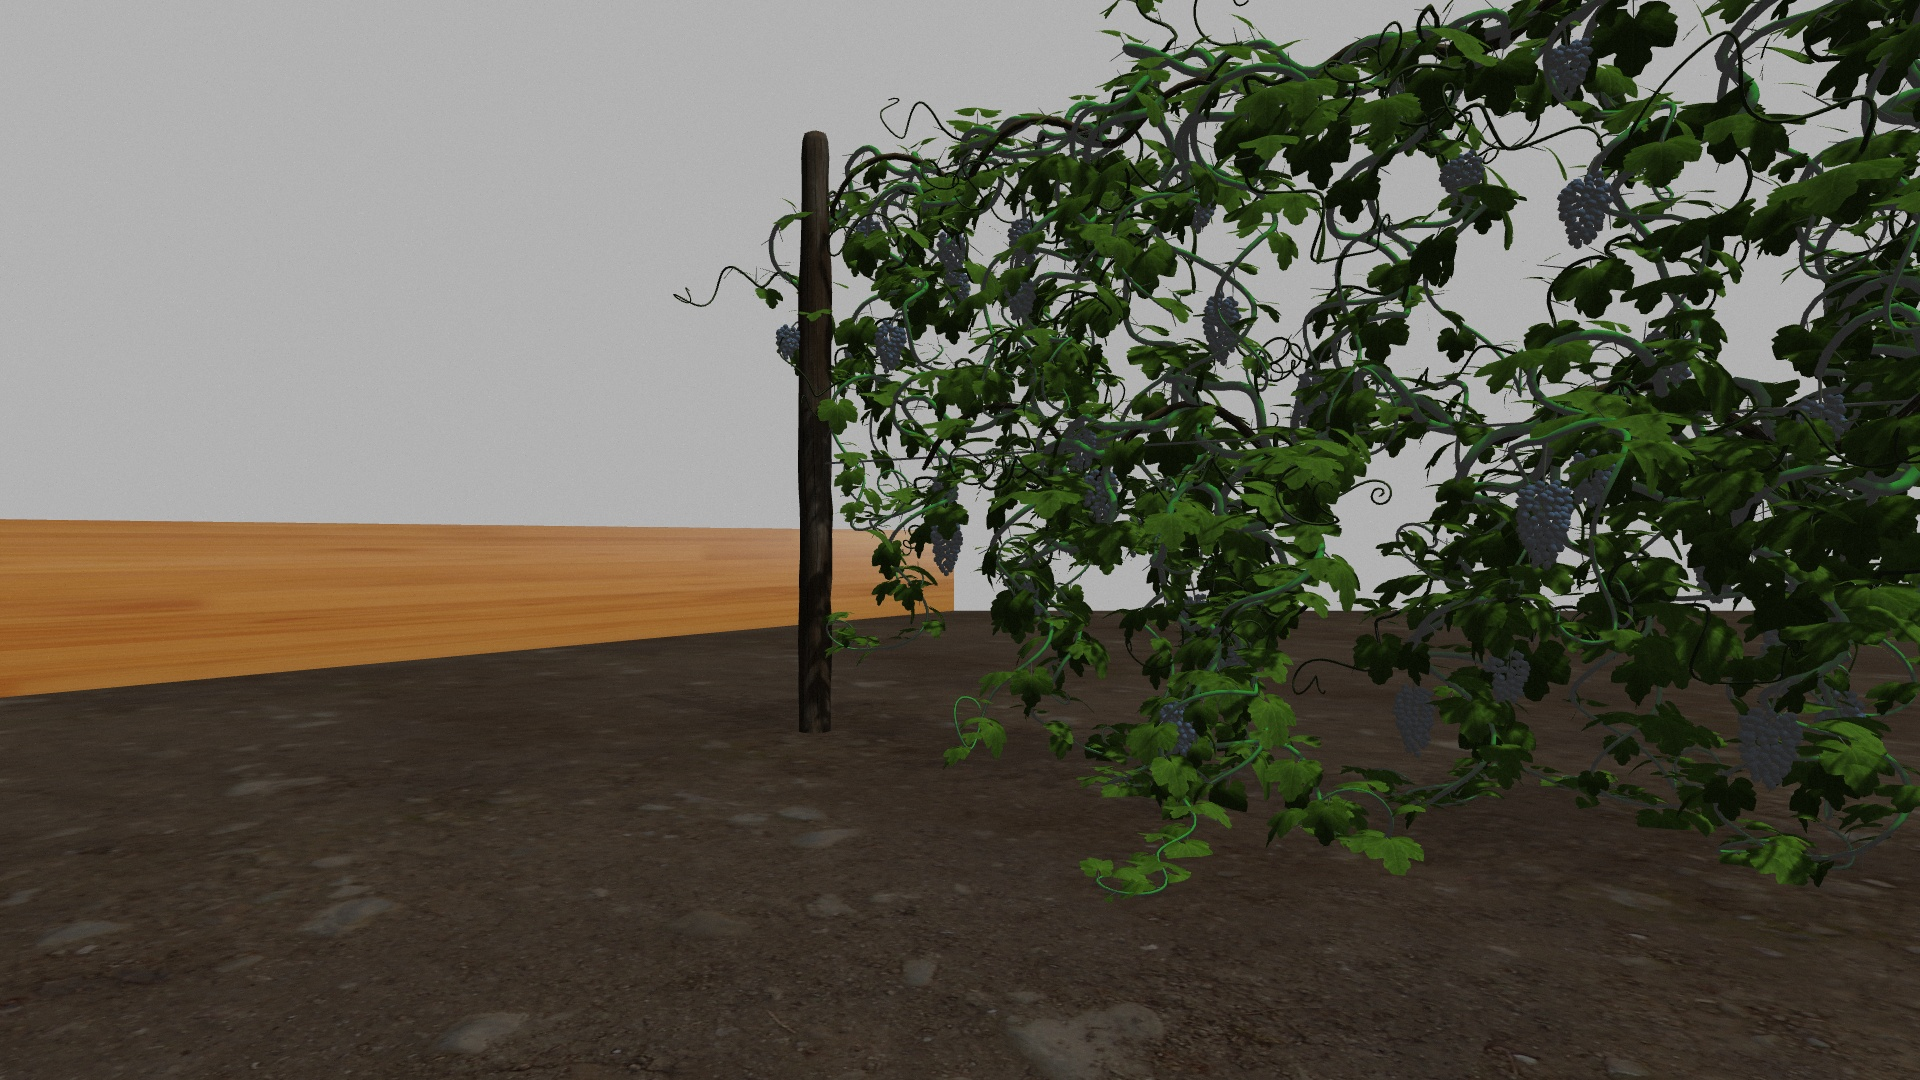grape: (1738, 702, 1804, 789), (1513, 483, 1573, 574), (1557, 173, 1611, 249), (1393, 683, 1443, 756), (1203, 294, 1245, 365), (1484, 649, 1532, 708), (1571, 447, 1617, 506), (1548, 40, 1593, 98), (1804, 393, 1850, 439), (1437, 153, 1486, 196), (1083, 469, 1120, 524), (928, 522, 963, 575), (876, 320, 909, 373), (1160, 705, 1195, 756), (1007, 218, 1040, 268), (1065, 427, 1096, 473), (1007, 280, 1036, 320), (938, 233, 965, 272), (944, 272, 972, 302), (775, 324, 799, 357)
